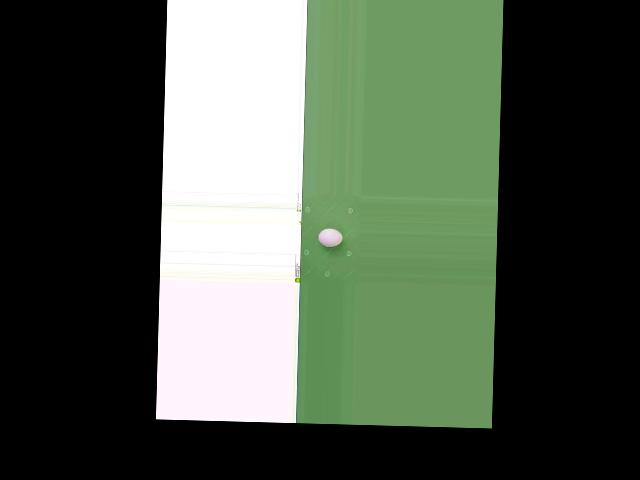egg: (318, 228, 342, 247)
